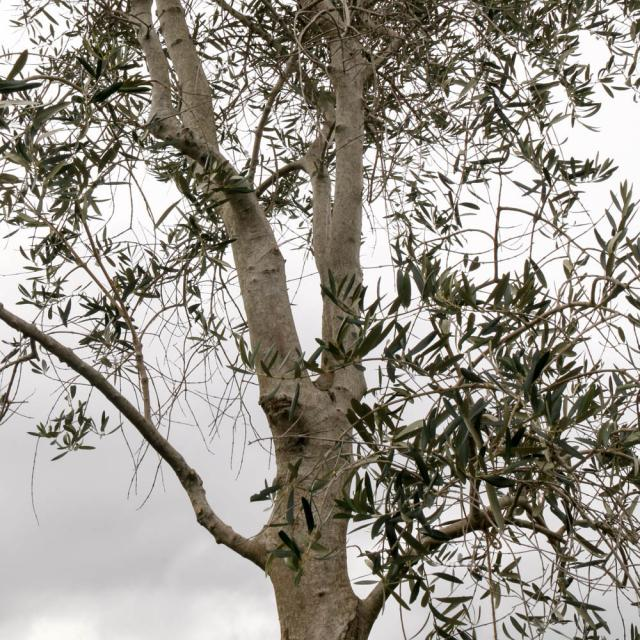Olea nabali: (2, 11, 640, 640)
